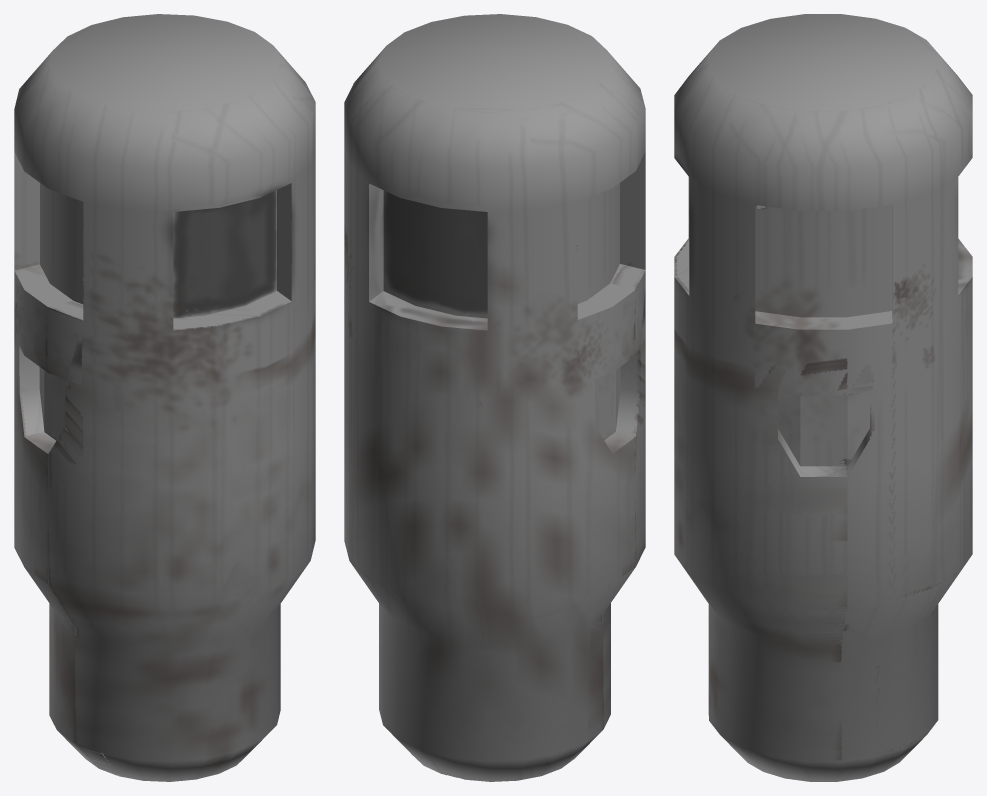
The model's file is Reactor Core.fbx.
The picture shows the model from 3 angles, left to right: view 1: azimuth 30°, elevation 25°; view 2: azimuth 150°, elevation 25°; view 3: azimuth 270°, elevation 25°; orthographic projection.
Parts seen in each view (by area): view 1: Reactor_core; view 2: Reactor_core; view 3: Reactor_core.
Part boxes in pixels (x1,y1,x2,y2): Reactor_core: (14, 14, 315, 781); Reactor_core: (344, 14, 645, 781); Reactor_core: (674, 14, 972, 781).
Bounding box in the file's own units: 9.53 × 24.1 × 9.53.
1 material, 1 textured.
